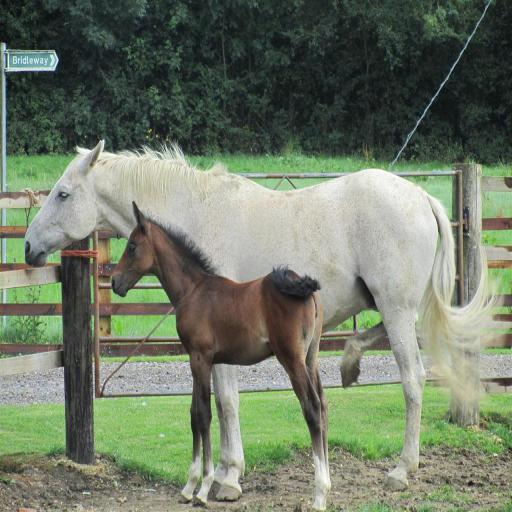horse: (24, 138, 512, 498), (112, 200, 332, 512)
